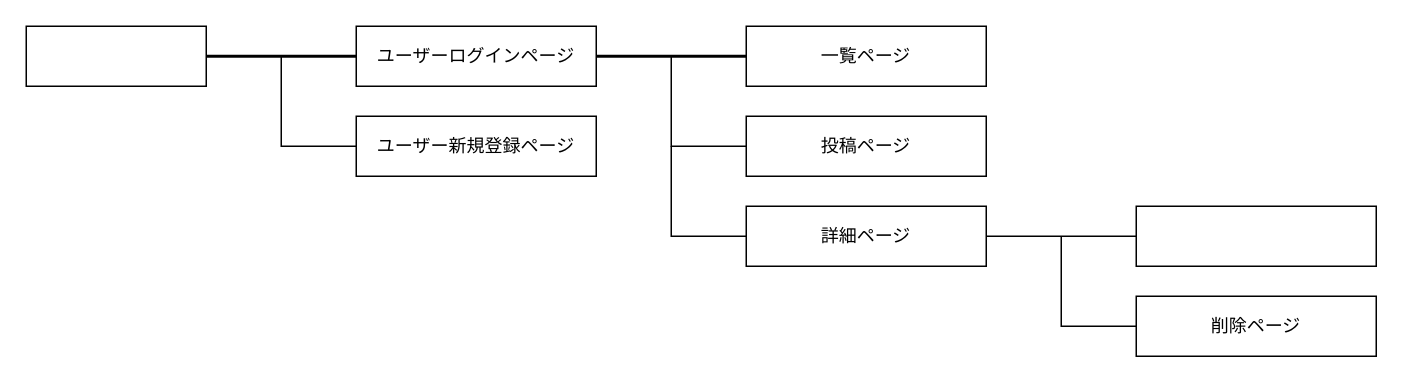
Image size: 1403x383. Some labels were removed from this diagram. Each missing label, with the centre of its shape:
トップページ: the point at 115,55
編集ページ: the point at 1255,235
